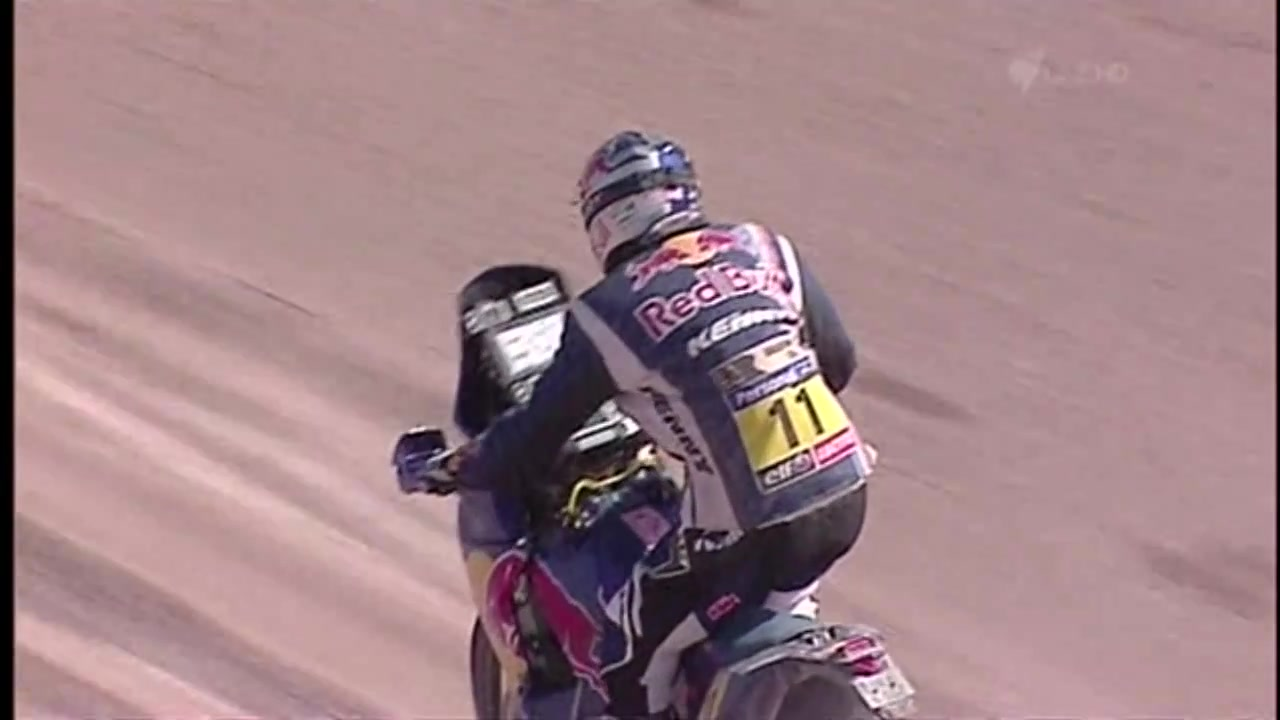motorbike: (395, 258, 928, 720)
